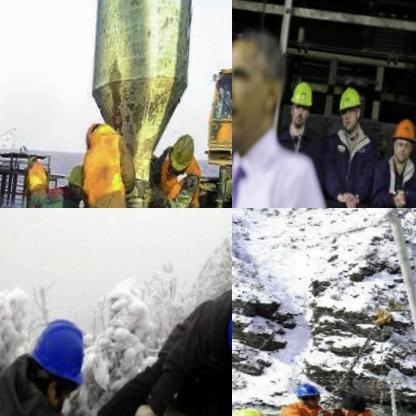helmet: (17, 306, 99, 416), (285, 78, 317, 131), (332, 83, 365, 134), (387, 115, 416, 168), (167, 129, 198, 171), (63, 162, 92, 206), (290, 380, 326, 410), (232, 401, 269, 416)
